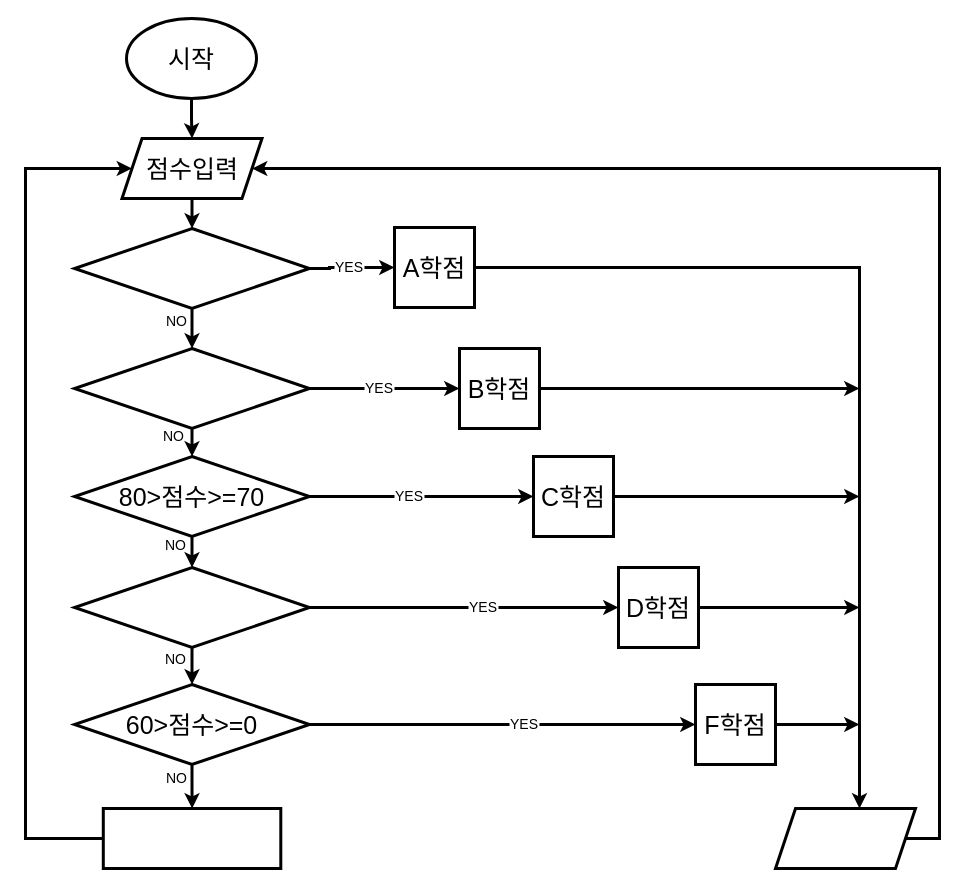
Image size: 966x887. Some labels were removed from this diagram. Each missing label, with the centre of its shape:
100>=점수>=90: point (191, 268)
70>점수>60: point (191, 607)
90>점수>=80: point (191, 388)
존재하지 않는 점수 입니다.: point (191, 838)
학점 출력: point (845, 838)
